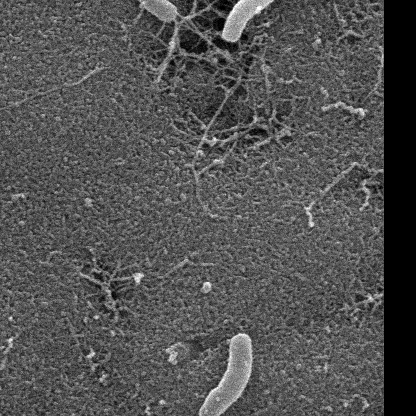cell2surface: (150, 24, 183, 78)
curved: (196, 333, 254, 416)
filament: (220, 0, 359, 39), (55, 0, 178, 22)
